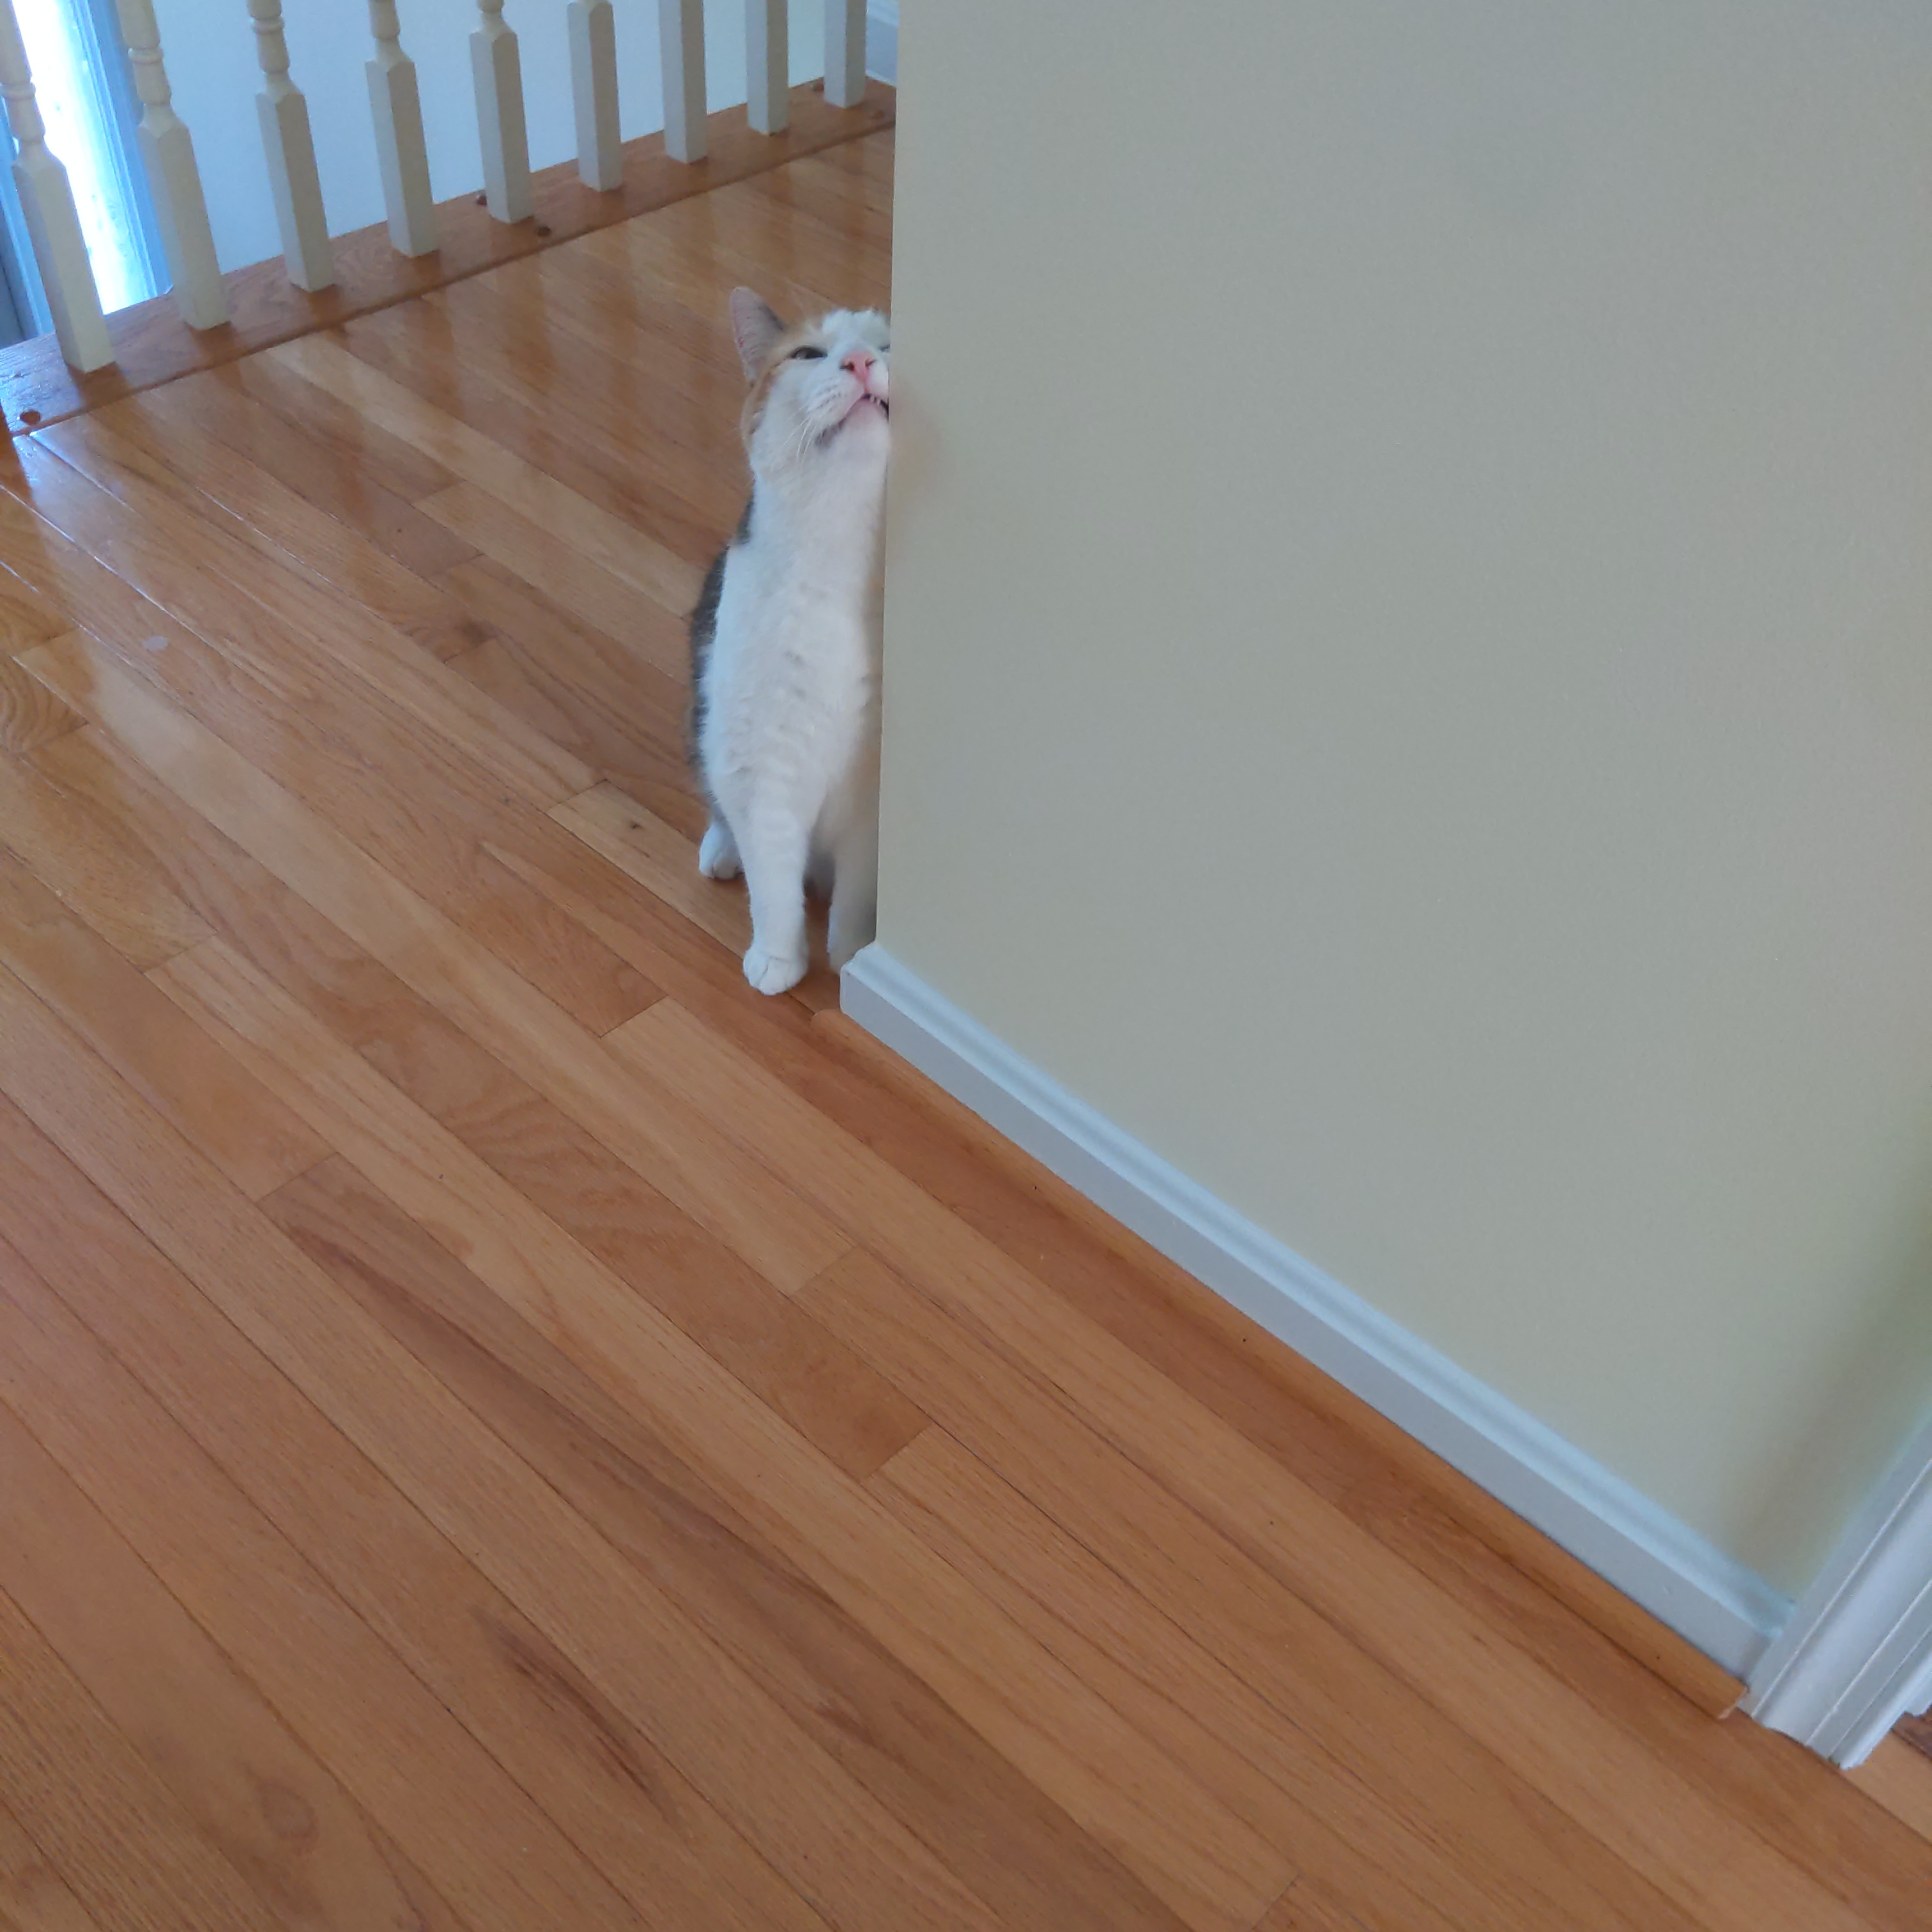Calico: (685, 281, 890, 998)
